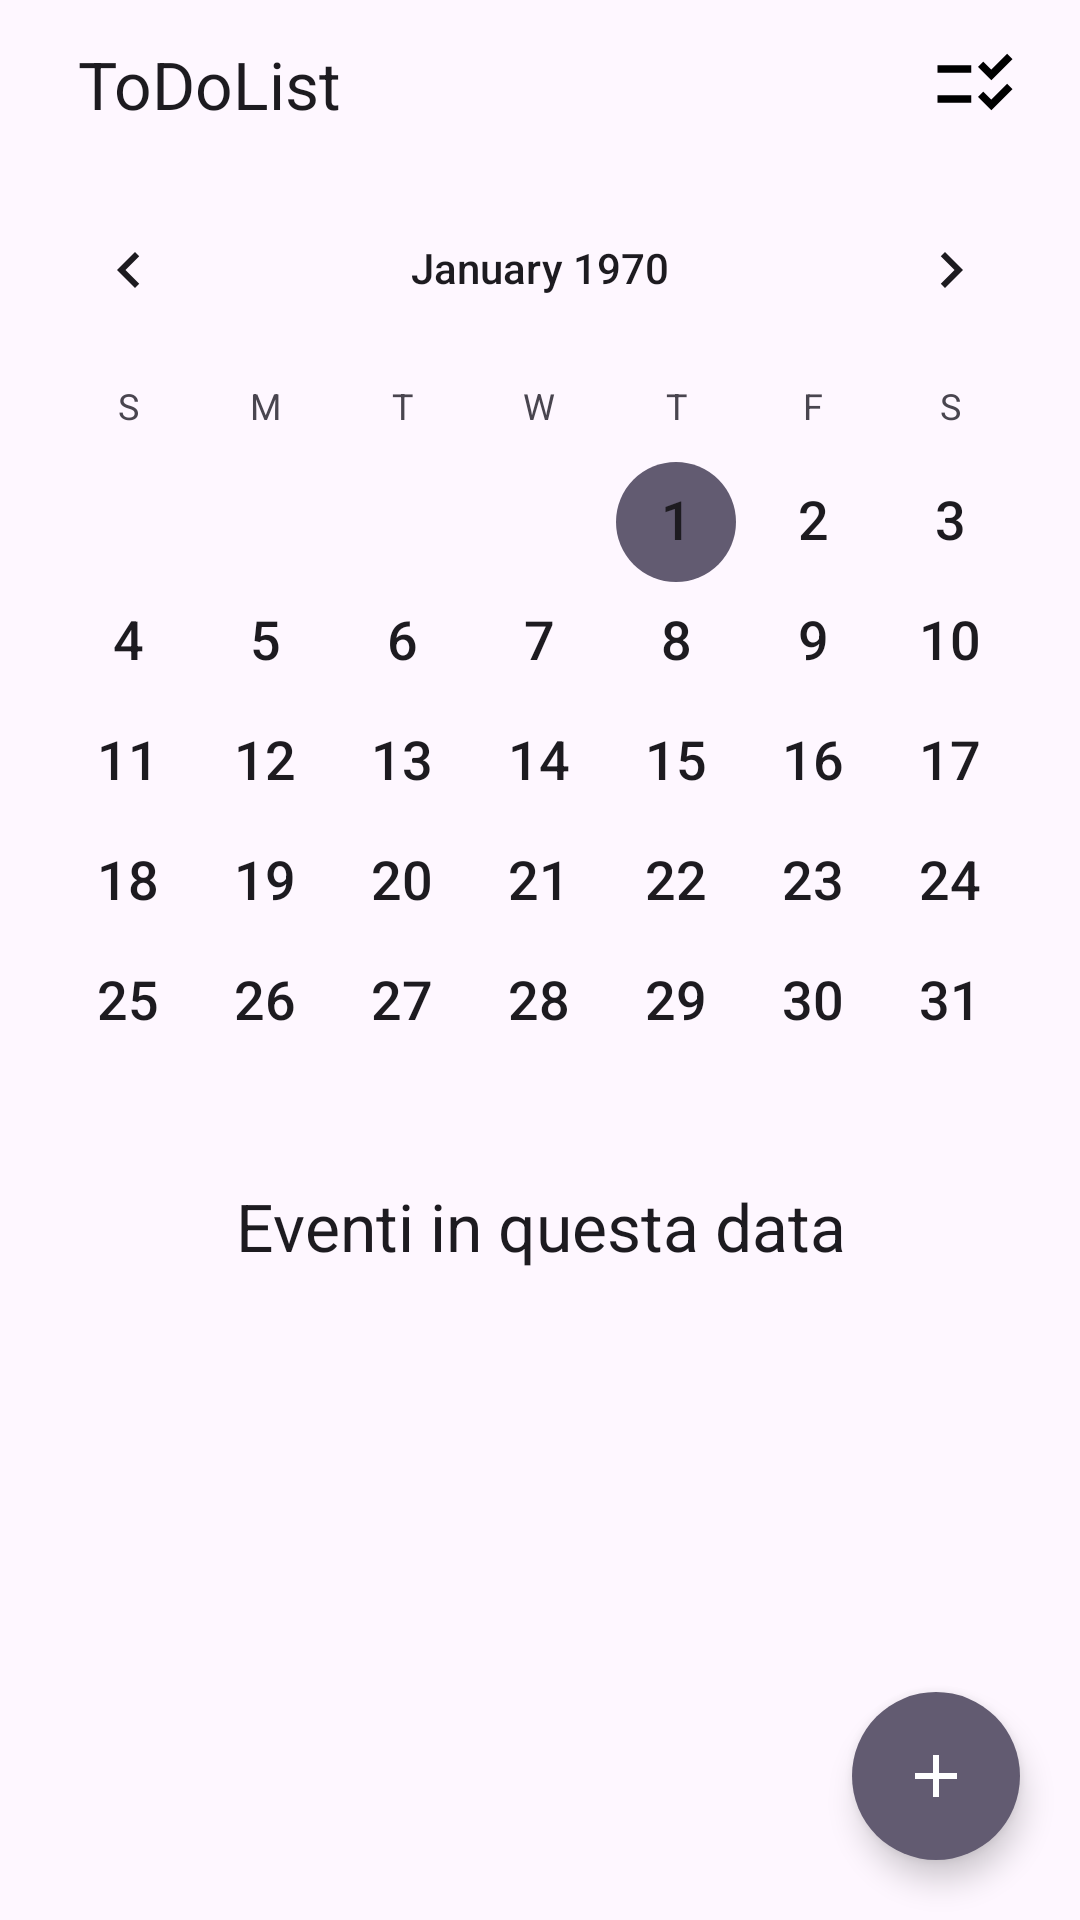

Icon bounding boxes for this 1080x1920 phone screenshot, format region(x1, y1, x2, y2):
Add event: region(852, 1692, 1020, 1860)
Torna all'elenco eventi: region(937, 54, 1013, 110)
